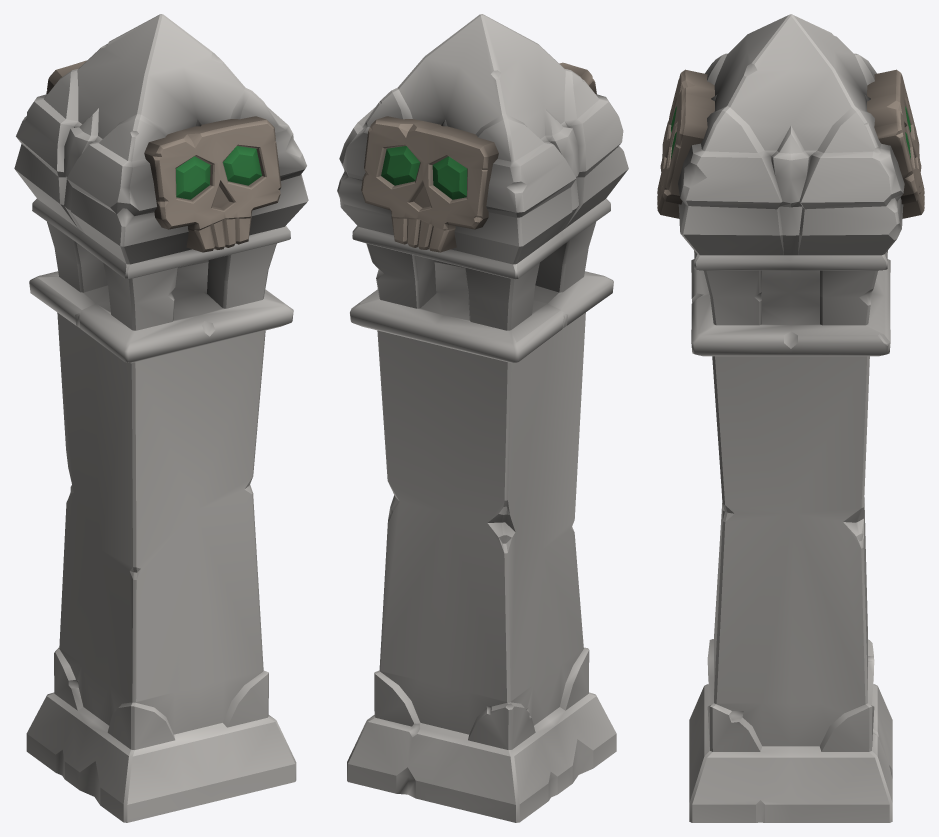
The model's file is obj_milestone_B.FBX.
The picture shows the model from 3 angles, left to right: view 1: azimuth 30°, elevation 25°; view 2: azimuth 150°, elevation 25°; view 3: azimuth 270°, elevation 25°; orthographic projection.
Parts seen in each view (by area): view 1: obj_milestone_B; view 2: obj_milestone_B; view 3: obj_milestone_B.
Part boxes in pixels (left/top/right/bottom): obj_milestone_B: left=14, top=14, right=308, bottom=822; obj_milestone_B: left=337, top=14, right=628, bottom=822; obj_milestone_B: left=657, top=14, right=924, bottom=822.
Bounding box in the file's own units: 1.03 × 3.72 × 1.18.
